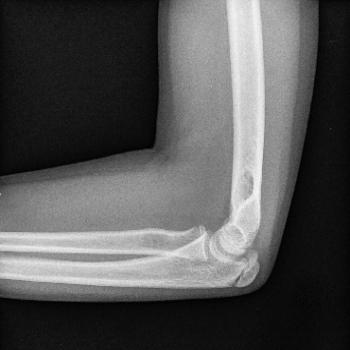Fracture: (230, 254, 269, 291)
